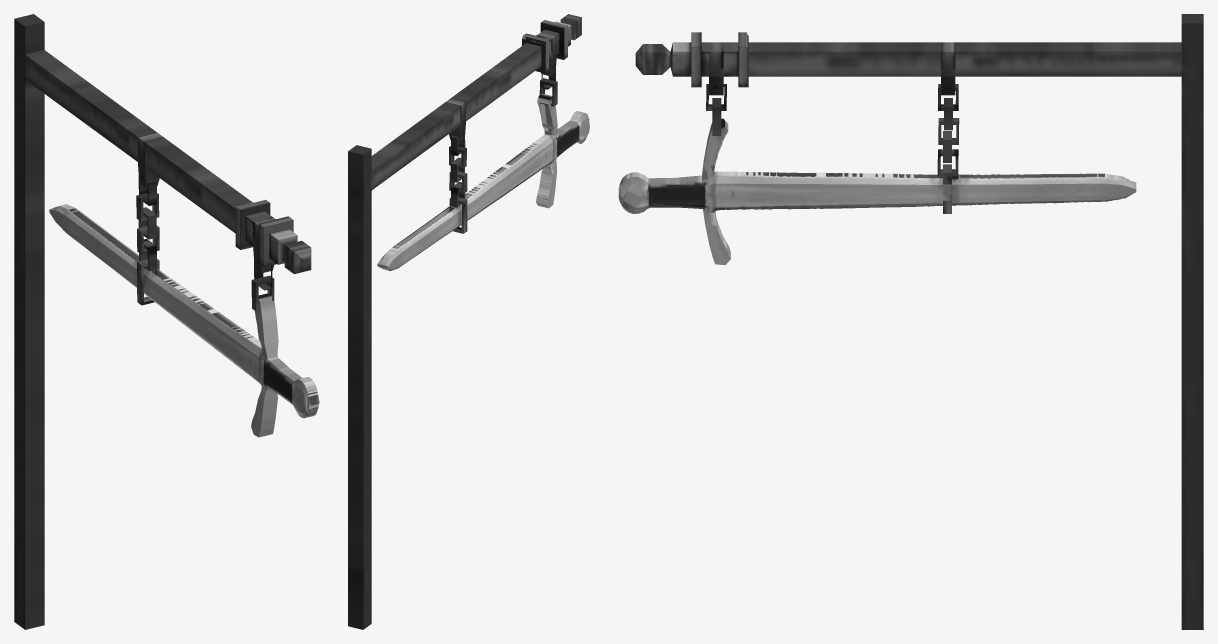
File: sign_361x06.obj
The picture shows the model from 3 angles, left to right: view 1: azimuth 30°, elevation 25°; view 2: azimuth 150°, elevation 25°; view 3: azimuth 270°, elevation 25°; orthographic projection. The views are drawn at different scales.
Parts seen in each view (by area): view 1: Sign_361x6; view 2: Sign_361x6; view 3: Sign_361x6.
Boxes of the visible parts, x1=… form: Sign_361x6: x1=14, y1=14, x2=319, y2=629; Sign_361x6: x1=348, y1=14, x2=589, y2=629; Sign_361x6: x1=618, y1=14, x2=1203, y2=629.
Bounding box in the file's own units: 0.2028 × 3.95 × 3.45.
